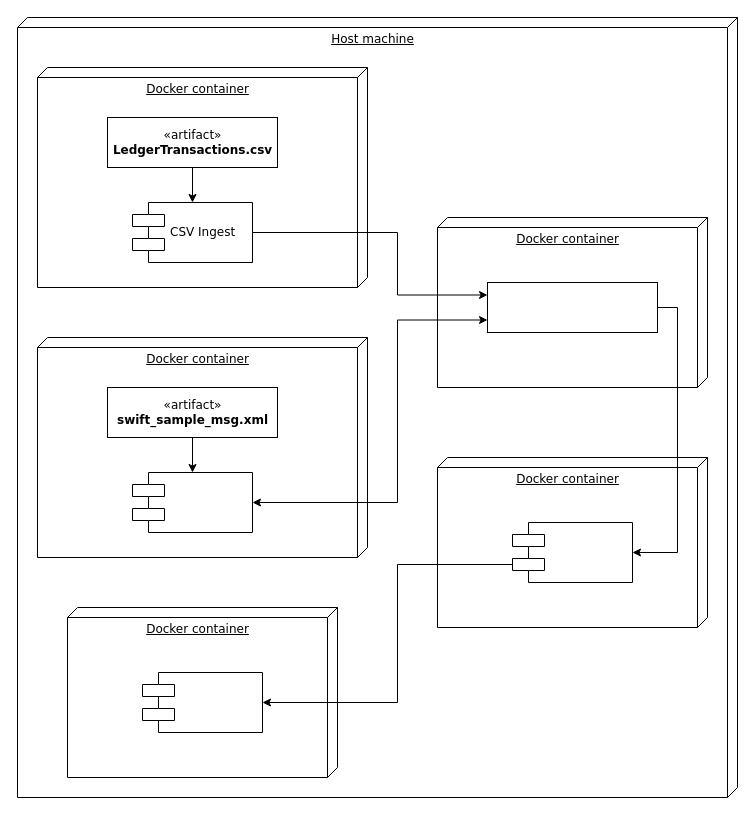
This 755x815 diagram has some shape labels left out. The shapes that lost their labels are listed below. From the top down, each one's box as (x1, y1, x2, y2) in pixels, then its label:
(486, 282, 658, 332): «artifact» PostgreSQL Database
(132, 472, 252, 532): Swift Ingest
(512, 522, 632, 582): API
(142, 672, 262, 732): Frontend
